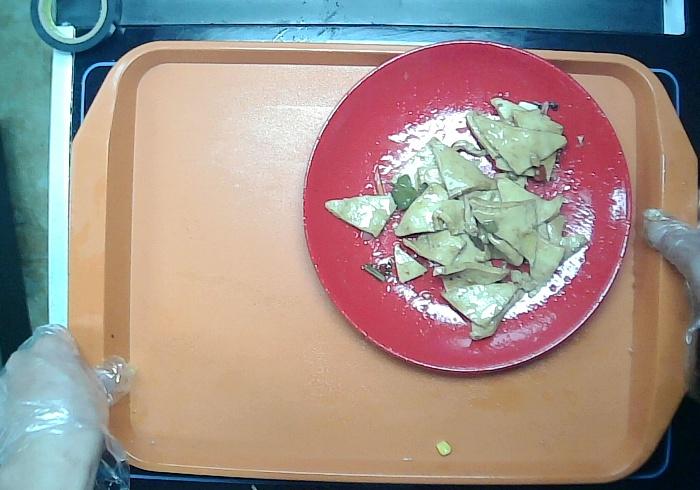HZYJPL-Hong_Se_Yuan_Pan: (301, 35, 642, 382)
